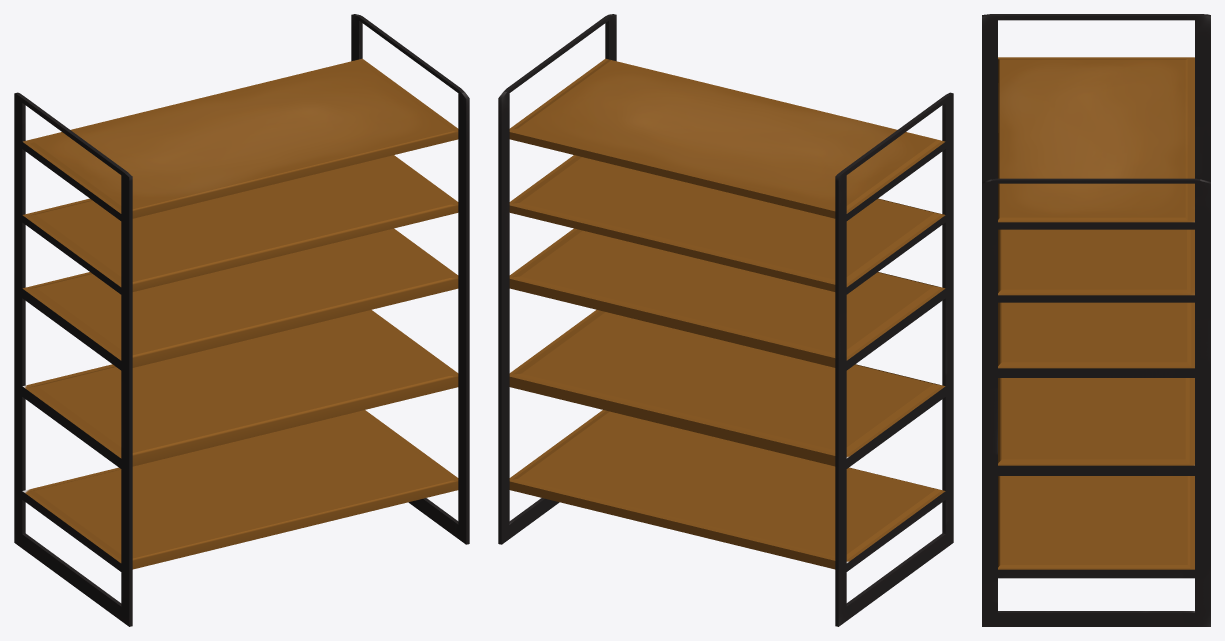
The model's file is stellingkast.fbx.
The picture shows the model from 3 angles, left to right: view 1: azimuth 30°, elevation 25°; view 2: azimuth 150°, elevation 25°; view 3: azimuth 270°, elevation 25°; orthographic projection.
Parts seen in each view (by area): view 1: pCube3; view 2: pCube3; view 3: pCube3.
Boxes of the visible parts, x1,y1,x2,y2 form: pCube3: (14,14,469,626); pCube3: (498,14,953,626); pCube3: (982,14,1210,626).
Bounding box in the file's own units: 99.06 × 125 × 57.99.
